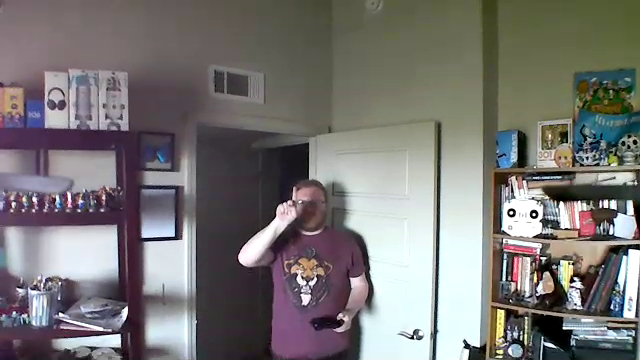up: (274, 179, 307, 235)
